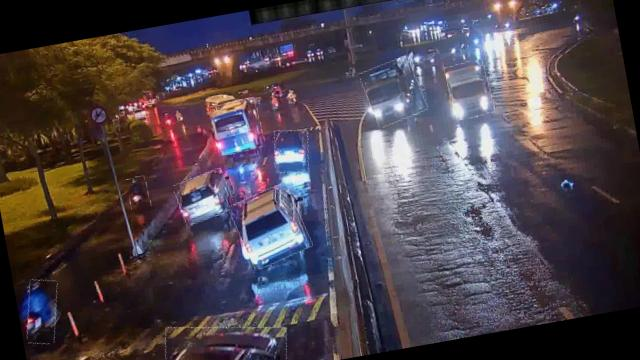Bike: (20, 276, 64, 346), (126, 176, 151, 209)
Bus: (209, 96, 266, 155)
Car: (230, 182, 310, 269), (160, 311, 291, 360), (173, 168, 235, 225), (270, 126, 313, 175)
Truck: (360, 56, 428, 128), (444, 58, 494, 121)
